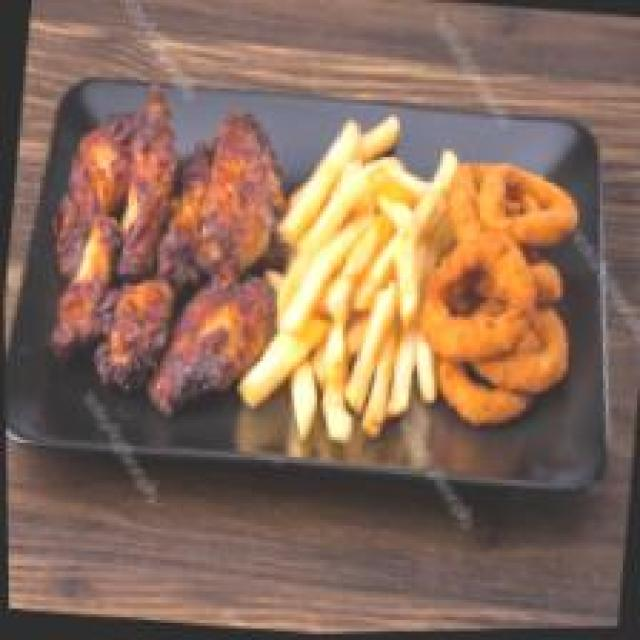Chicken Wings: (8, 70, 303, 433)
French Fries: (228, 90, 472, 459)
Onion Rings: (412, 144, 592, 450)
